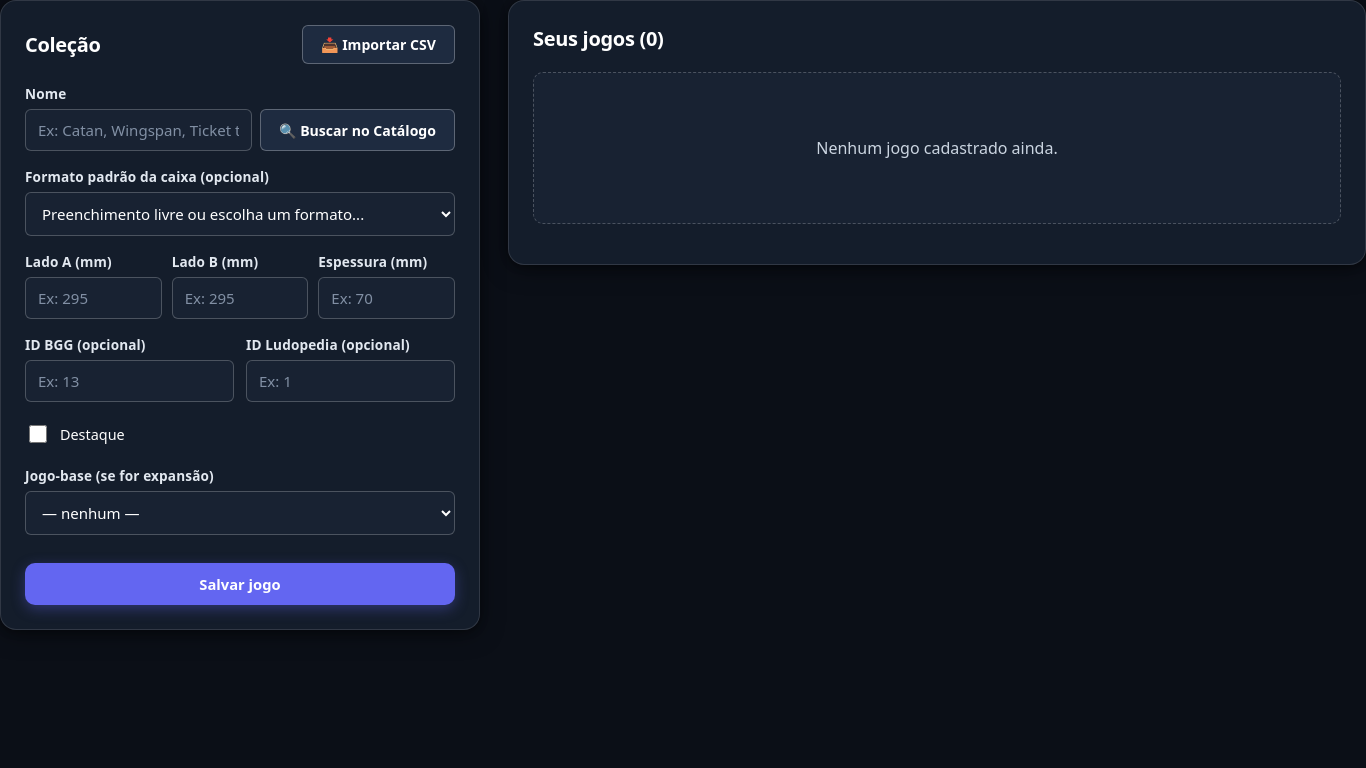
Test: TelaDeColecao › abre o modal de importacao ao clicar no botao Importar CSV
Click the button "📥 Importar CSV" at point(378, 44), box [302,25,455,64]
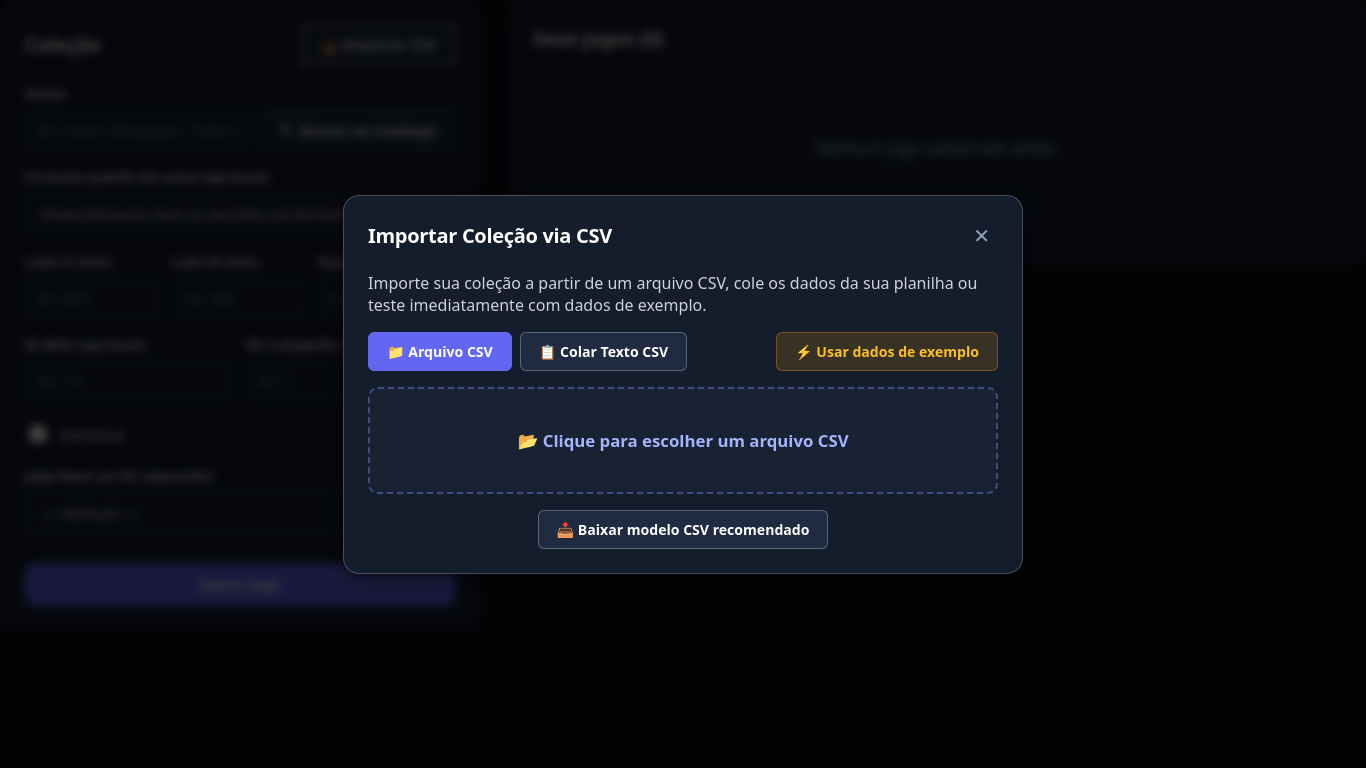
Now the heading "Importar Coleção via CSV" is shown, box [368,222,612,249]
